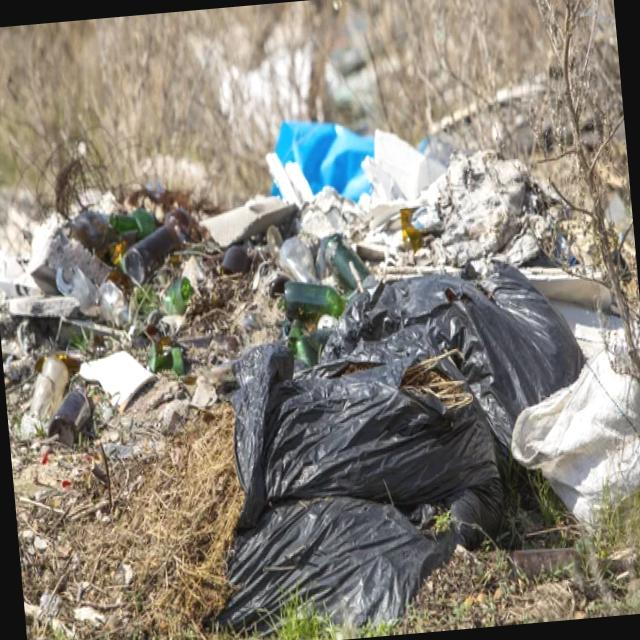garbage: (20, 99, 591, 612)
